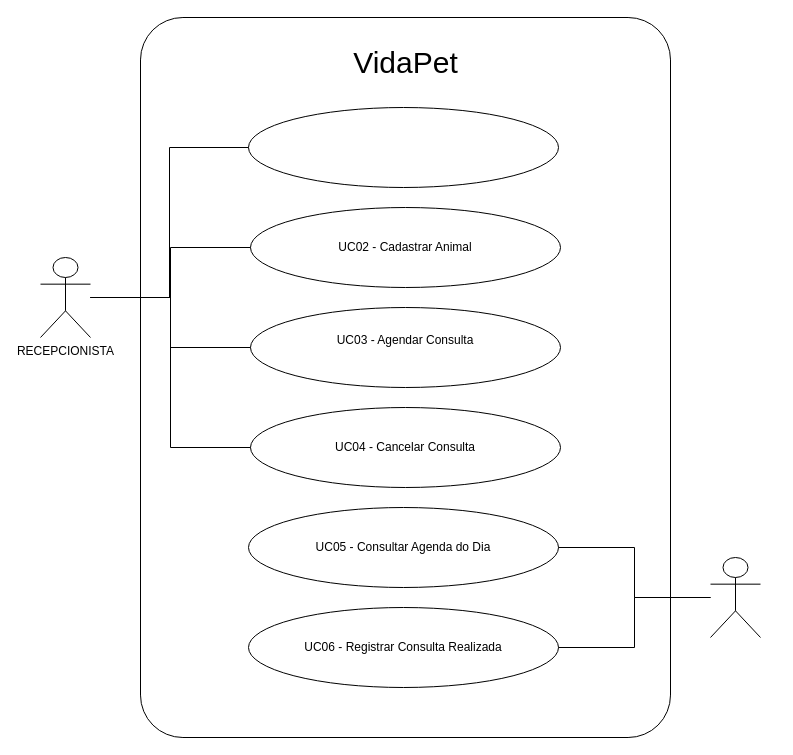
The diagram is 793 pixels wide and 755 high, and some of its shapes have lost their labels. Here are the shapes that lost their labels. From the top down, the centre of each, then its label:
At pixel 403 147: "UC01 - Cadastrar Veterinário".
At pixel 735 597: "VETERINÁRIO".
